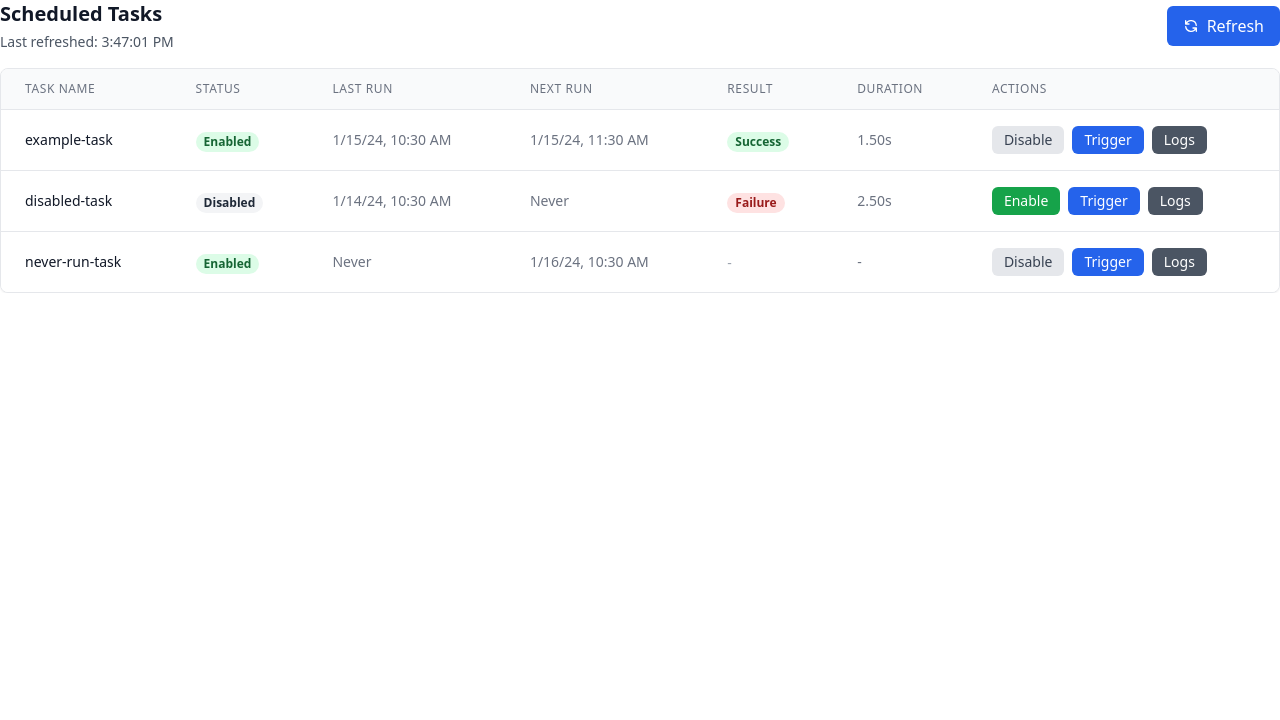
ScheduledTasksTab › View logs modal opening and display › should show error messages for failed executions
Expected: the text "example-task" is shown, [25, 130, 113, 149]
Click the button "Logs" in the row of "example-task": coordinates (1179, 140) [1152, 126, 1207, 154]
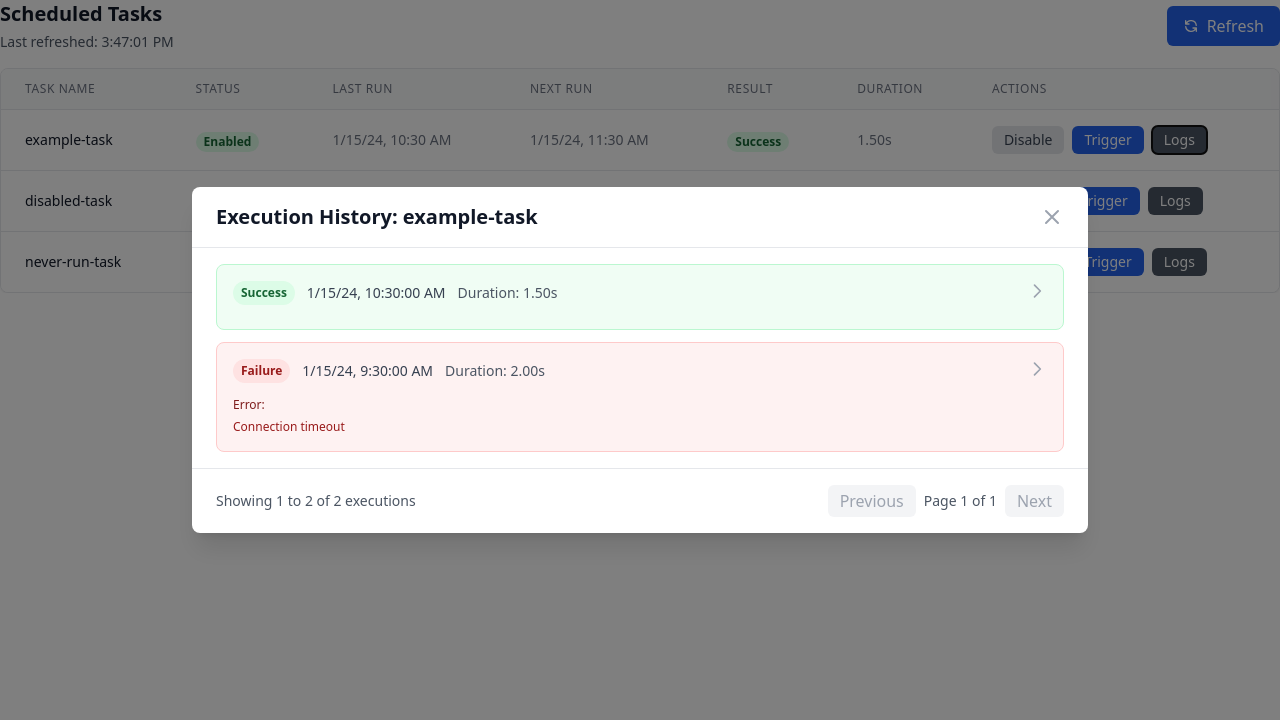
Now the text "Connection timeout" is shown, box [233, 418, 345, 435]
